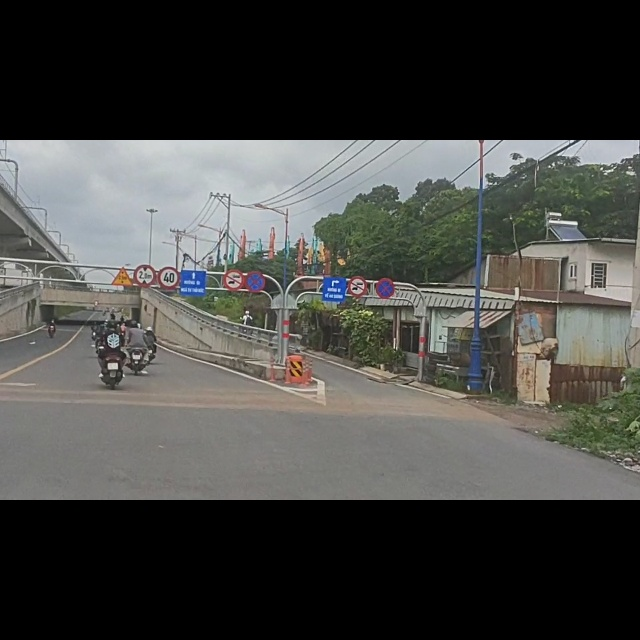bien_nguy_hiem: (133, 220, 157, 262), (158, 225, 180, 267), (223, 229, 245, 270), (246, 231, 266, 273), (111, 224, 133, 260), (348, 242, 368, 281), (376, 244, 395, 283)
